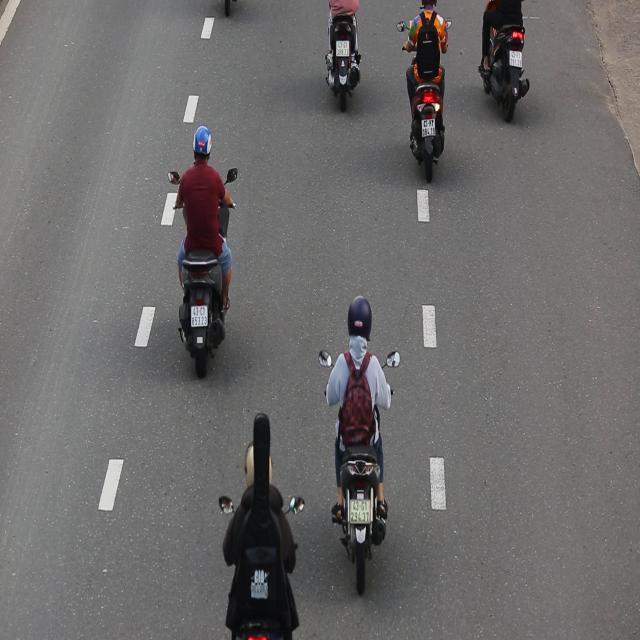motorbike: (318, 291, 402, 600), (168, 120, 243, 380)
